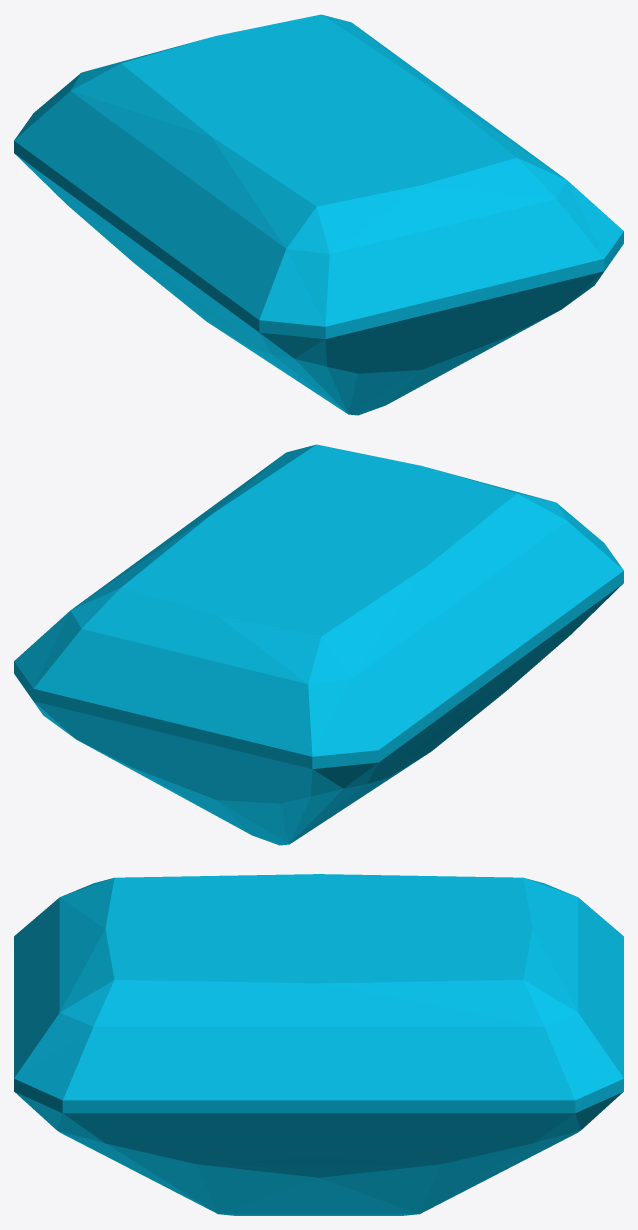
Rendered from Head_No Halo_Radiant_1.0ct_Diamond.glb.
The picture shows the model from 3 angles, top to bottom: view 1: azimuth 30°, elevation 25°; view 2: azimuth 150°, elevation 25°; view 3: azimuth 270°, elevation 25°; orthographic projection. The views are drawn at different scales.
Size of the model in its own units: 0.00506 by 0.00365 by 0.00702.
